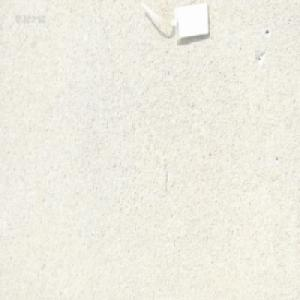LuggageTag: (136, 1, 210, 45)
